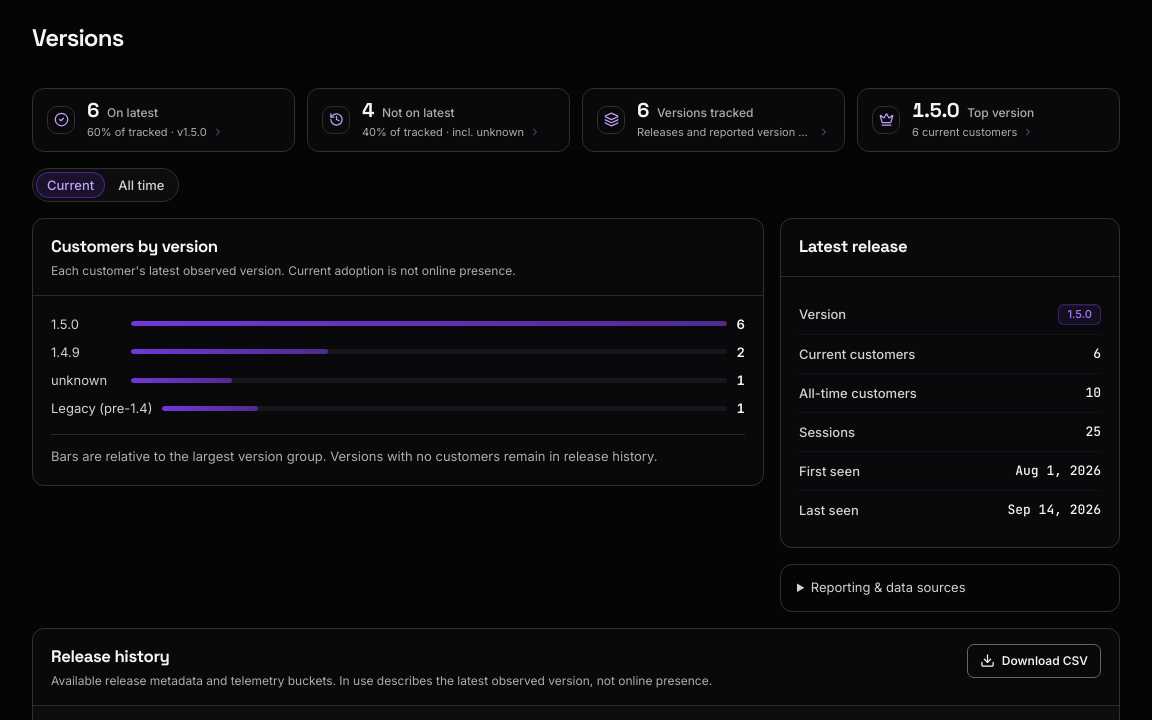
Test: Version adoption workspace › switches only the adoption view and discloses non-additive all-time customer counts
Click the radio button labelled "All time".
click(141, 185)  # box [107,172,175,198]
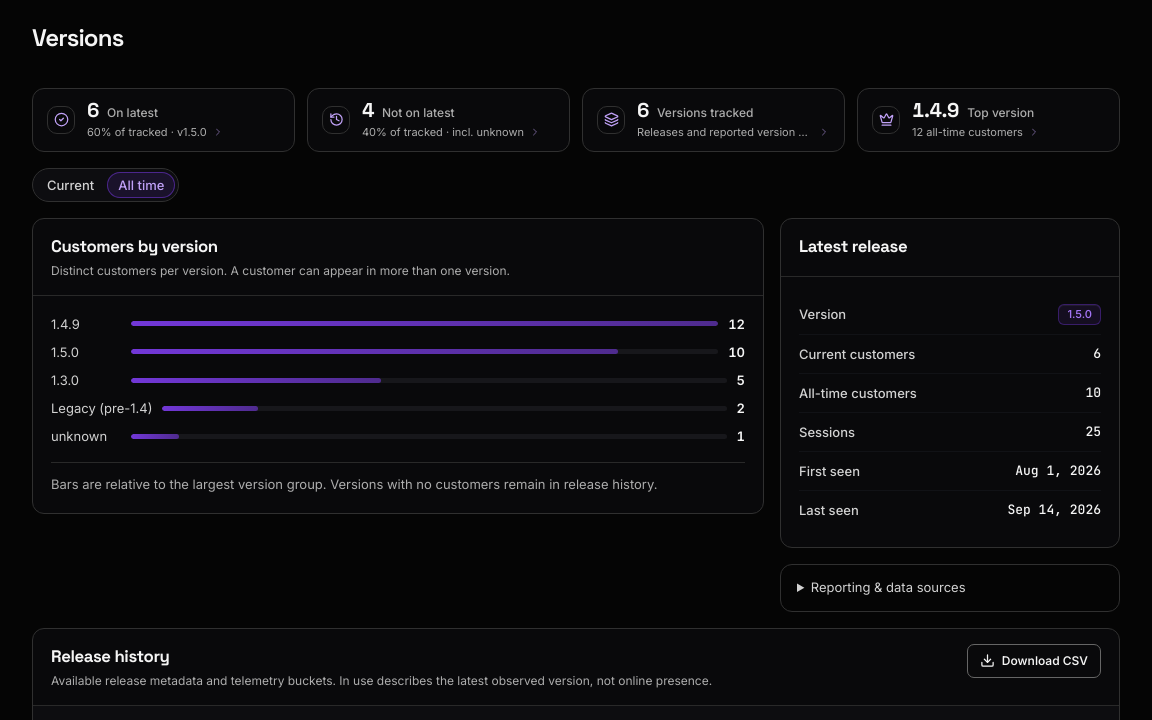
Check: the text with class "rank-label" below "Customers by version" reads "1.4.9", box [51,316,80,332]
Check: the text with class "rank-value" reads "12", box [728,316,745,332]
Check: the text "A customer can appear in more than one version" is shown, box [51,263,510,278]
